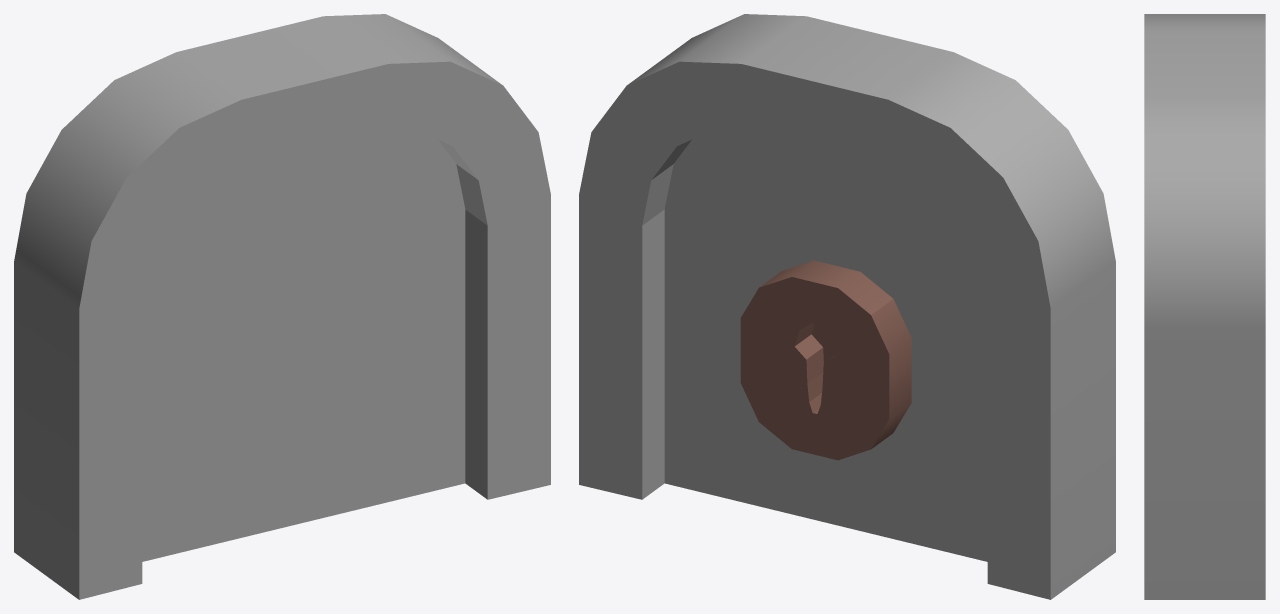
File: KeyDoor.fbx
3 renders of one model, left to right at view 1: azimuth 30°, elevation 25°; view 2: azimuth 150°, elevation 25°; view 3: azimuth 270°, elevation 25°, orthographic. The views are drawn at different scales.
Visible parts, largest first — view 1: pCube4; view 2: pCube4; view 3: pCube4.
Part boxes in pixels (x1,y1,x2,y2): pCube4: (14, 14, 550, 599); pCube4: (579, 14, 1115, 599); pCube4: (1144, 14, 1265, 599).
Bounding box in the file's own units: 402 × 375 × 96.2.
